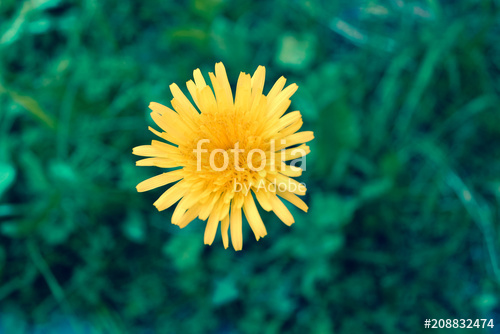dandelion: (150, 73, 299, 240)
